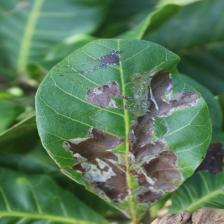leaf miner: (34, 37, 213, 223), (66, 48, 124, 75)
